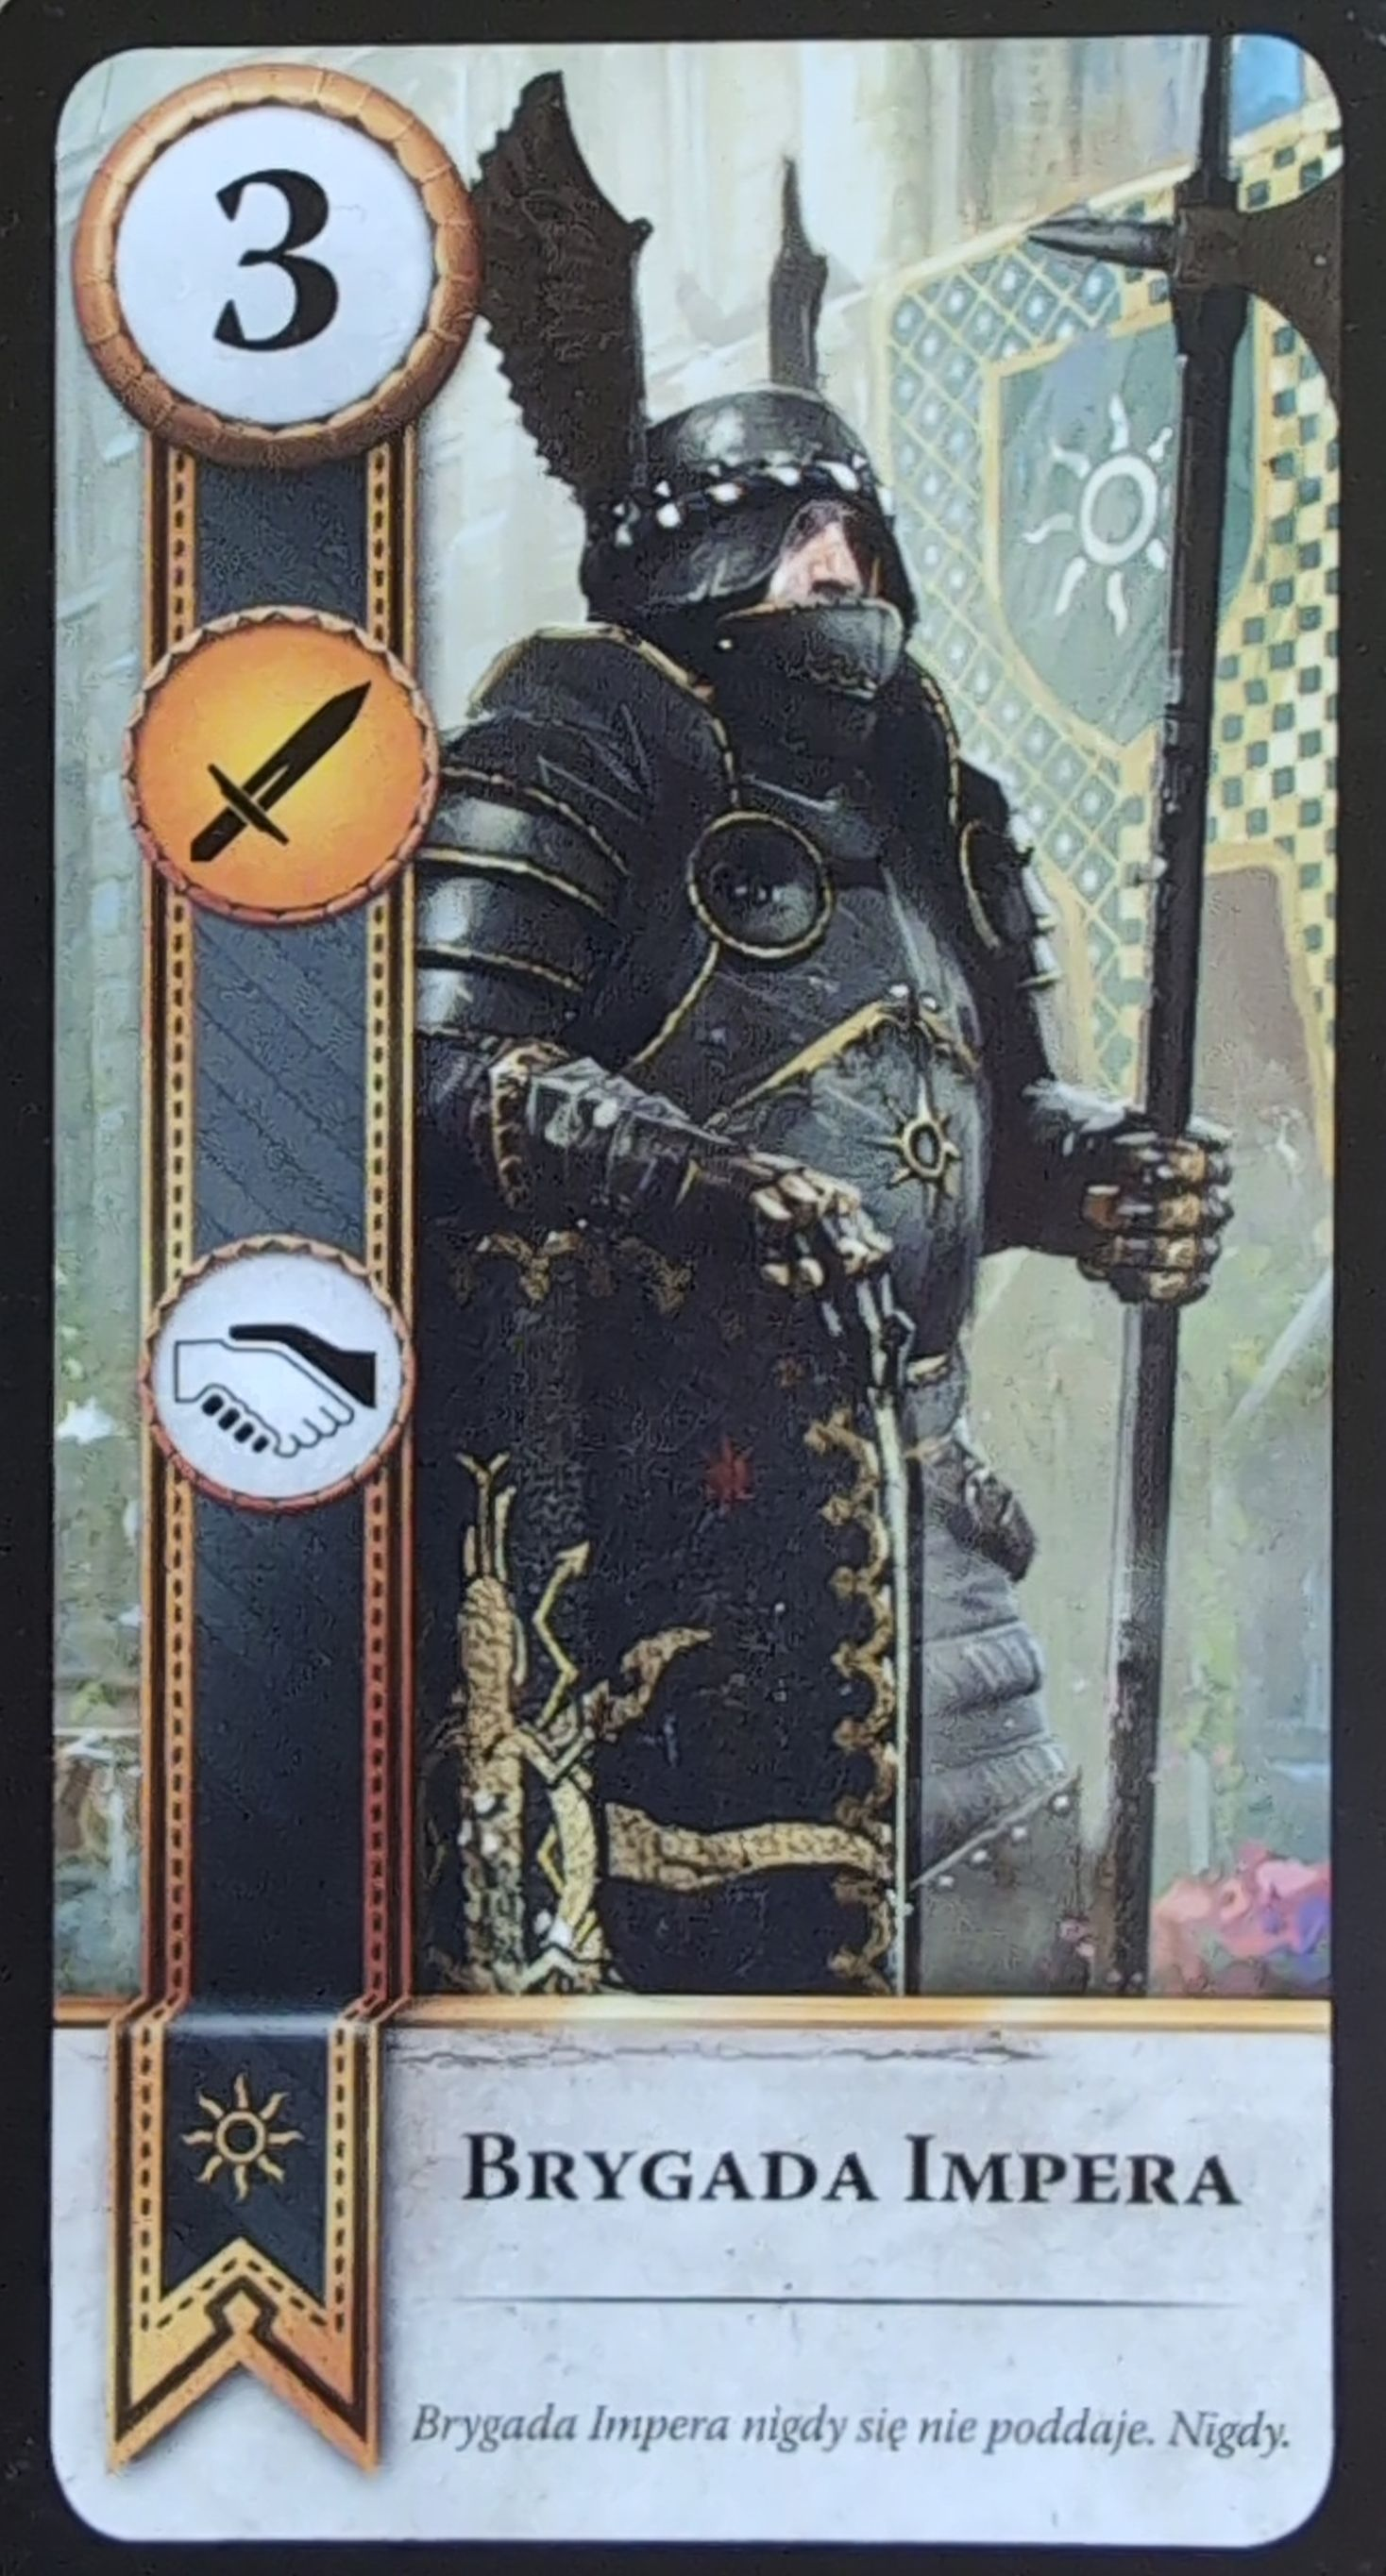miecz: (99, 582, 461, 933)
punkty: (96, 73, 483, 464)
wiez: (138, 1221, 428, 1529)
